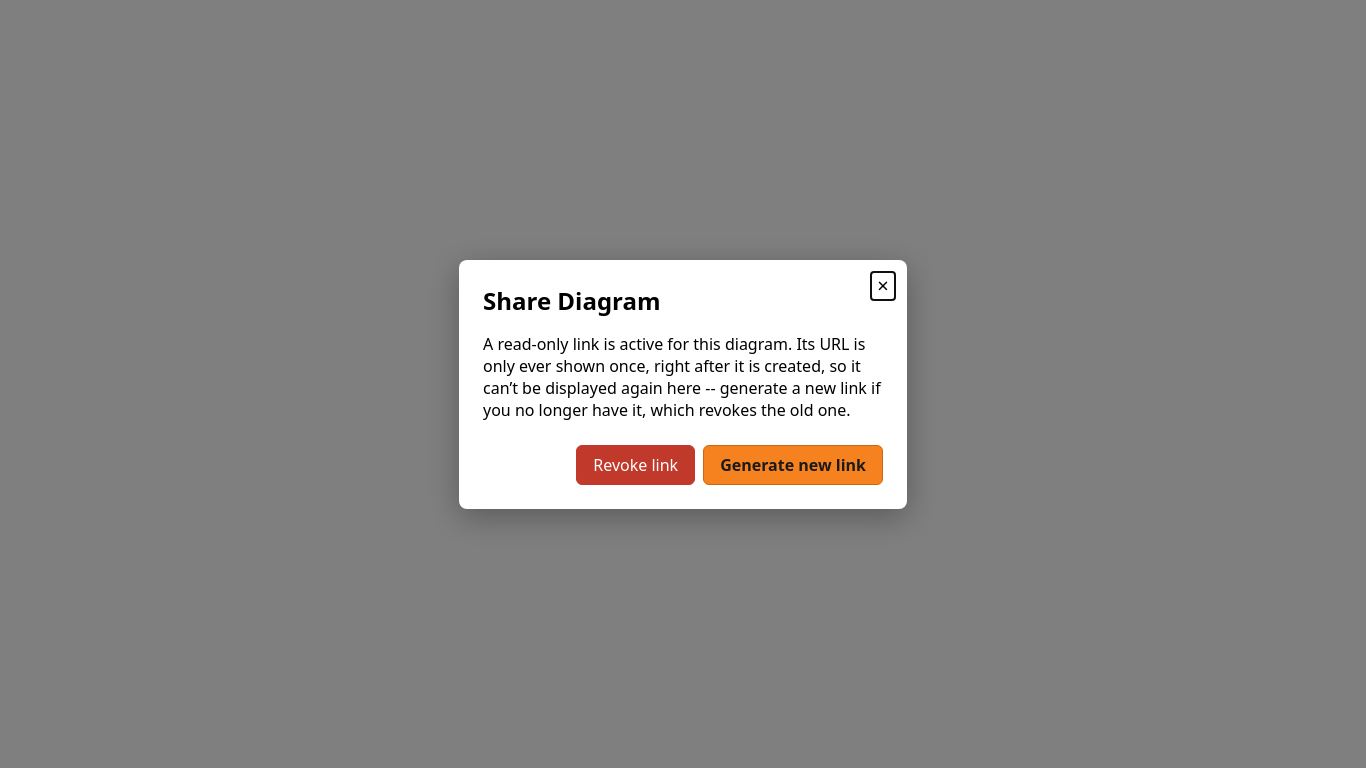
Test: ShareModal › revokes an active share and returns to the inactive state
Click the button "Revoke link": [636, 464] box [576,444,695,484]
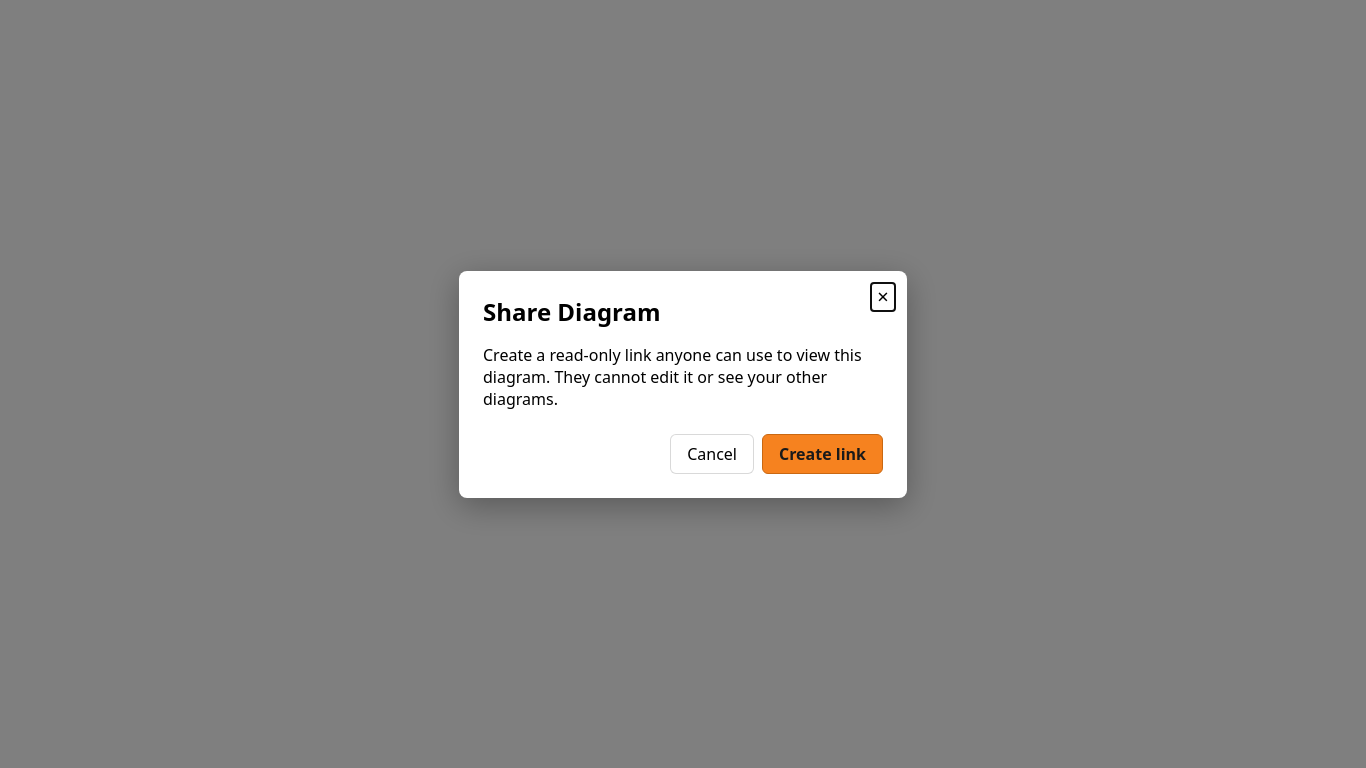
Expected: the button "Create link" is shown, [762,434,883,474]
